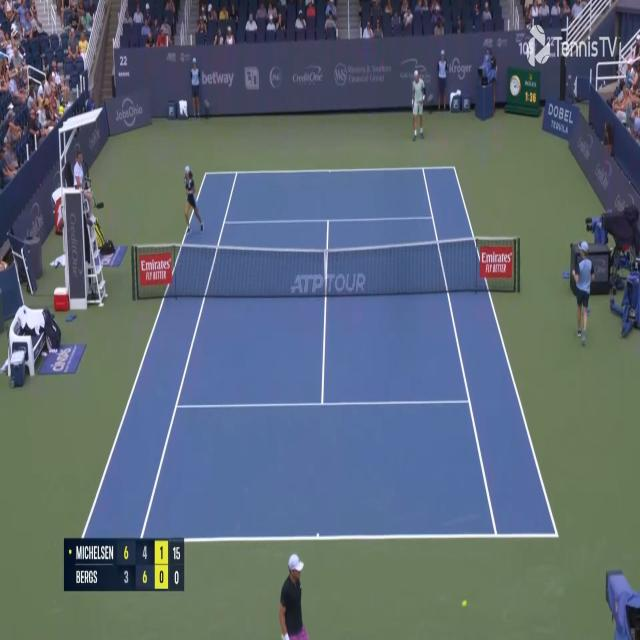tennis-player: (278, 549, 311, 639), (411, 68, 427, 141)
